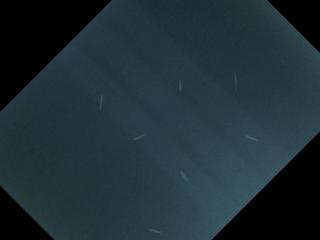scratch: (177, 167, 192, 187), (229, 69, 241, 94), (128, 131, 147, 142), (146, 225, 166, 235), (243, 134, 261, 144), (97, 93, 104, 111), (177, 77, 183, 92)
